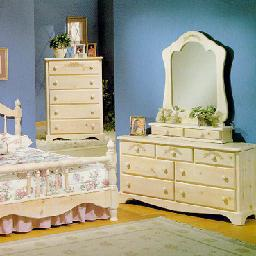Armario: (45, 57, 102, 144)
Cama: (3, 102, 121, 224), (119, 133, 244, 217)
